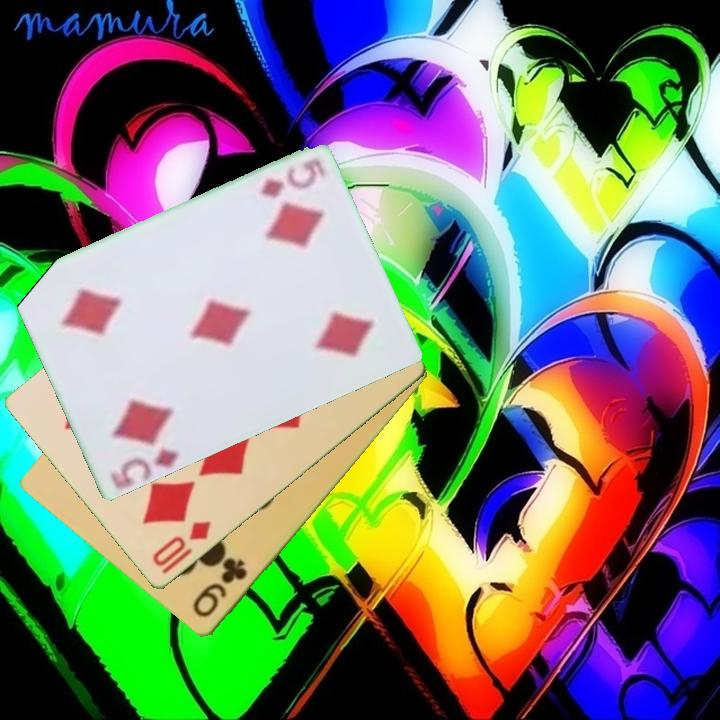10d: (148, 517, 214, 571)
5d: (257, 155, 327, 200), (109, 445, 183, 487)
9c: (189, 555, 250, 621)
